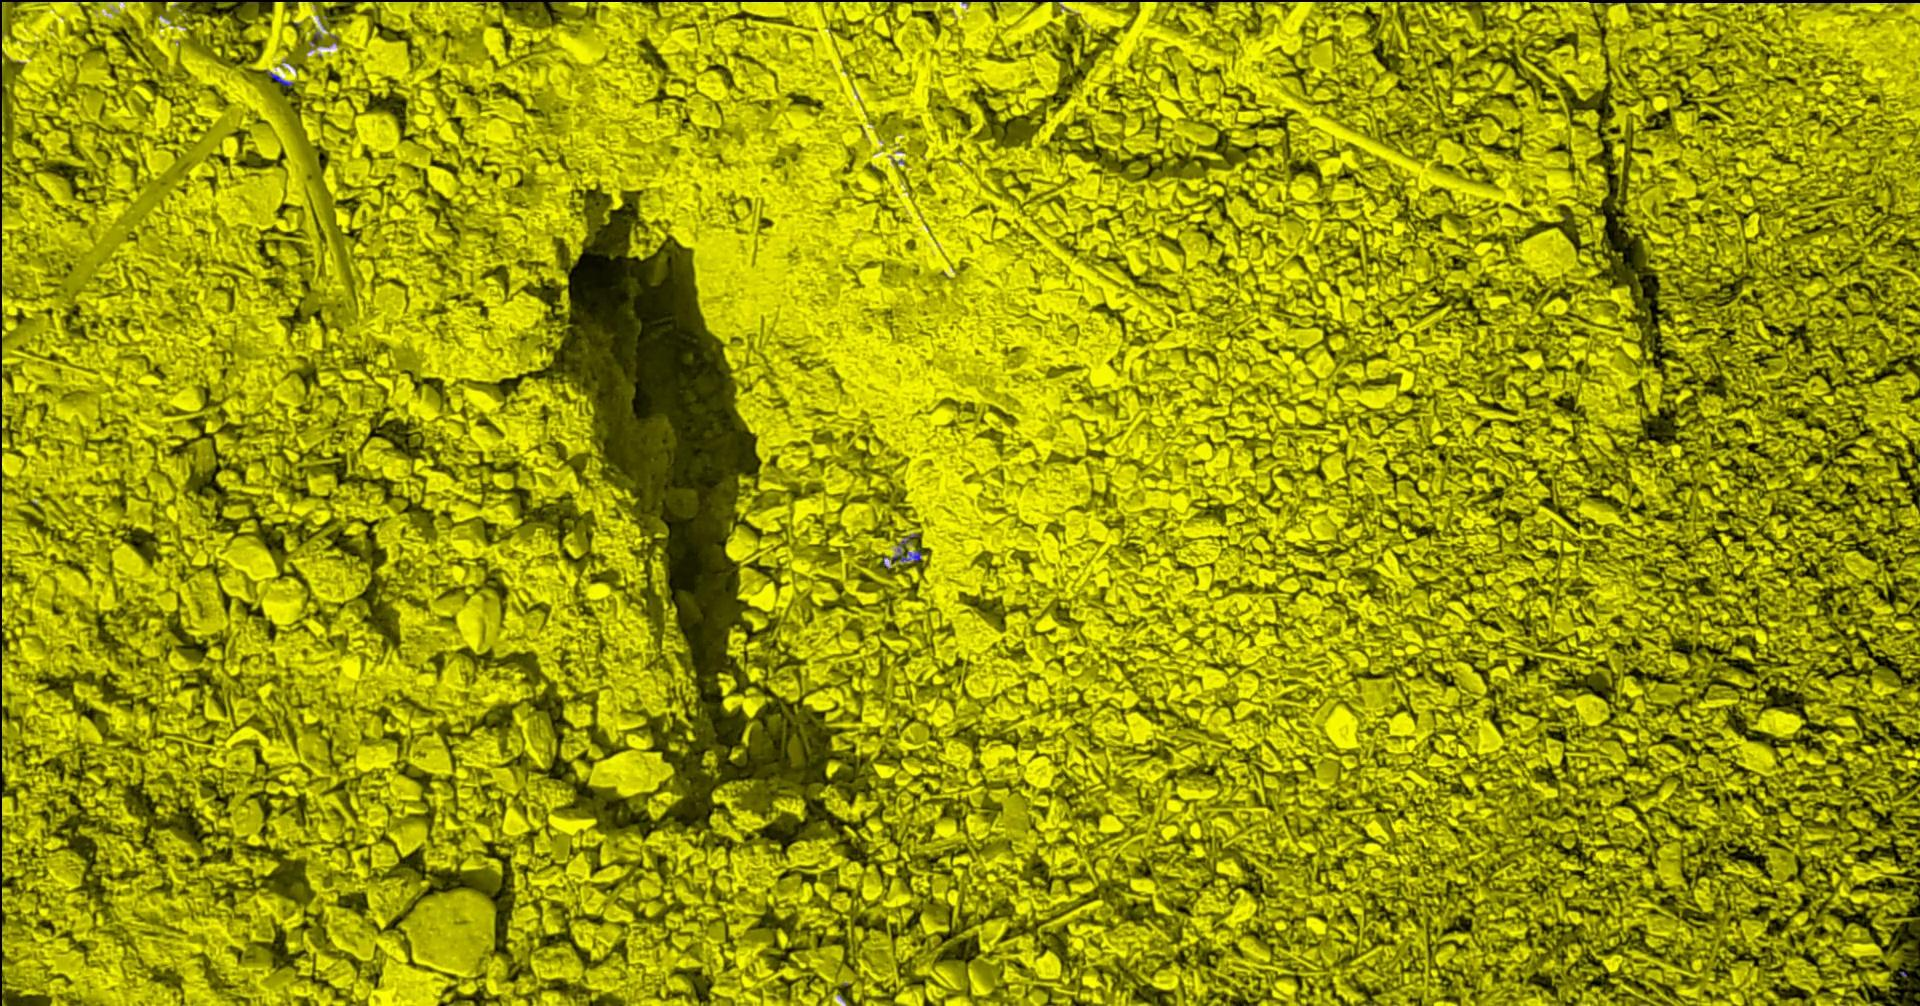ant: (265, 70, 292, 86), (890, 550, 921, 561)
